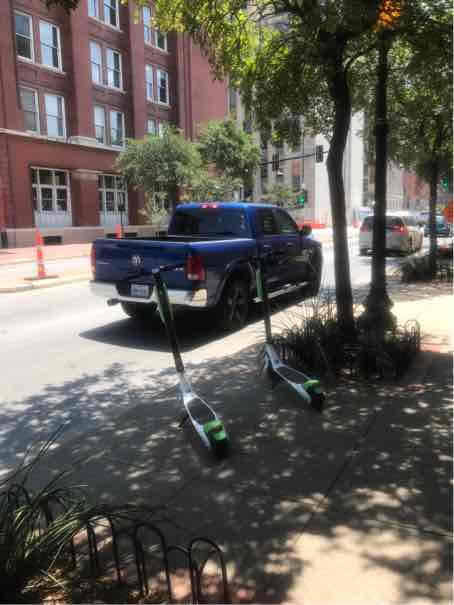scooter: (106, 256, 227, 458), (223, 225, 331, 418)
